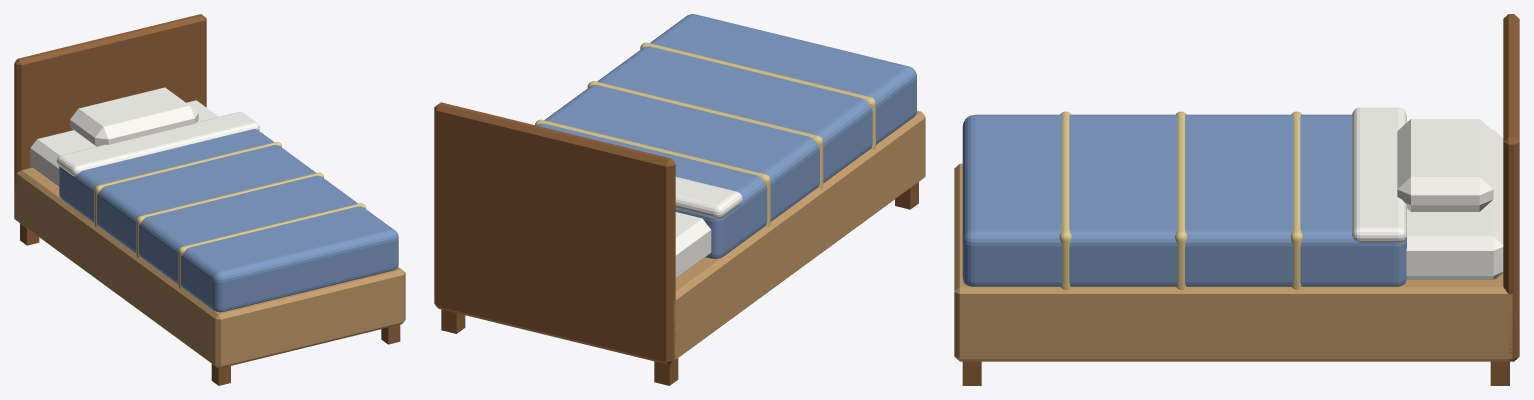
Rendered from bed.glb.
The picture shows the model from 3 angles, left to right: view 1: azimuth 30°, elevation 25°; view 2: azimuth 150°, elevation 25°; view 3: azimuth 270°, elevation 25°; orthographic projection. The views are drawn at different scales.
Visible parts, largest first — view 1: bed; view 2: bed; view 3: bed.
Boxes of the visible parts, <box> form: bed: <box>14,14,405,385</box>; bed: <box>434,14,925,385</box>; bed: <box>954,14,1519,385</box>.
Size of the model in its own units: 1.1 by 1 by 2.05.
